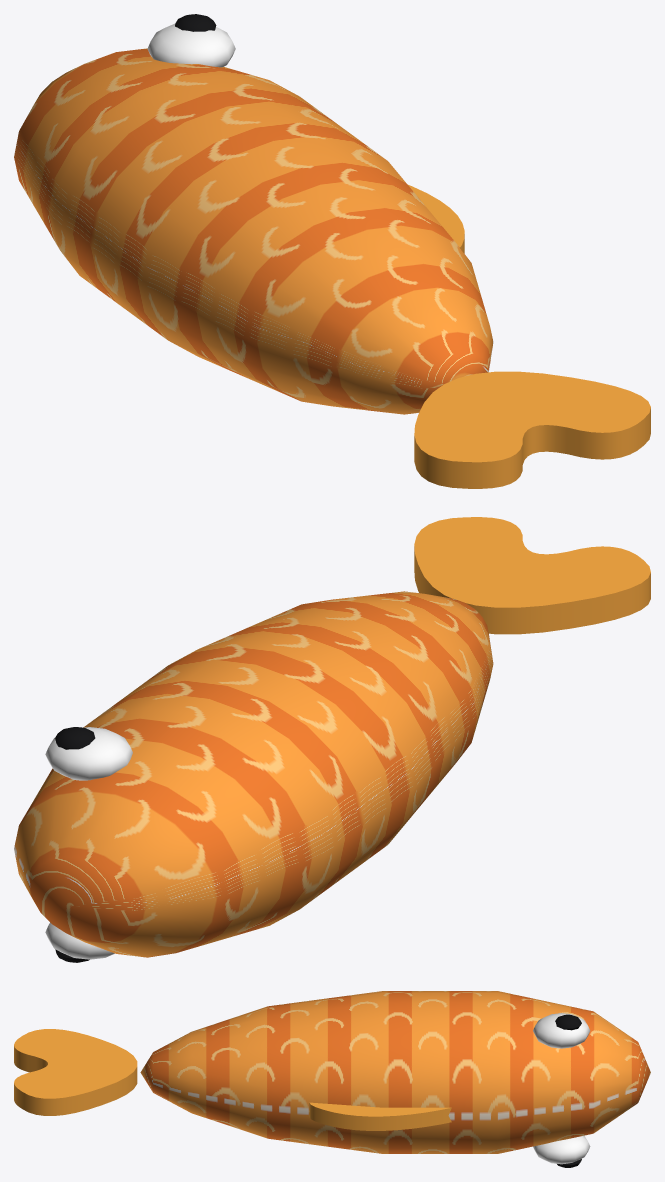
Rendered from Toy_CatnipFish.fbx.
3 renders of one model, top to bottom at view 1: azimuth 30°, elevation 25°; view 2: azimuth 150°, elevation 25°; view 3: azimuth 270°, elevation 25°, orthographic. The views are drawn at different scales.
Visible parts, largest first — view 1: CatnipFish; view 2: CatnipFish; view 3: CatnipFish.
Boxes of the visible parts, x1=… form: CatnipFish: x1=14, y1=14, x2=650, y2=488; CatnipFish: x1=14, y1=517, x2=650, y2=962; CatnipFish: x1=14, y1=991, x2=650, y2=1167.
Size of the model in its own units: 0.35 by 0.258 by 0.9981.
Materials: 1 (1 with a texture image).
